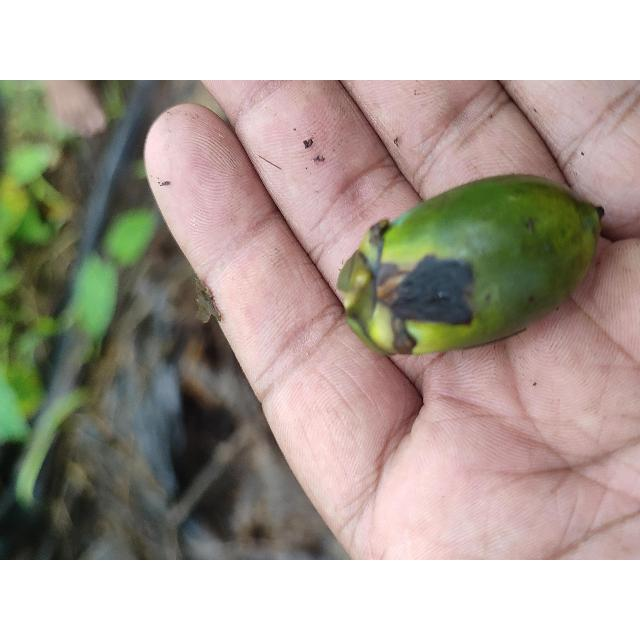damaged: (332, 174, 604, 357)
